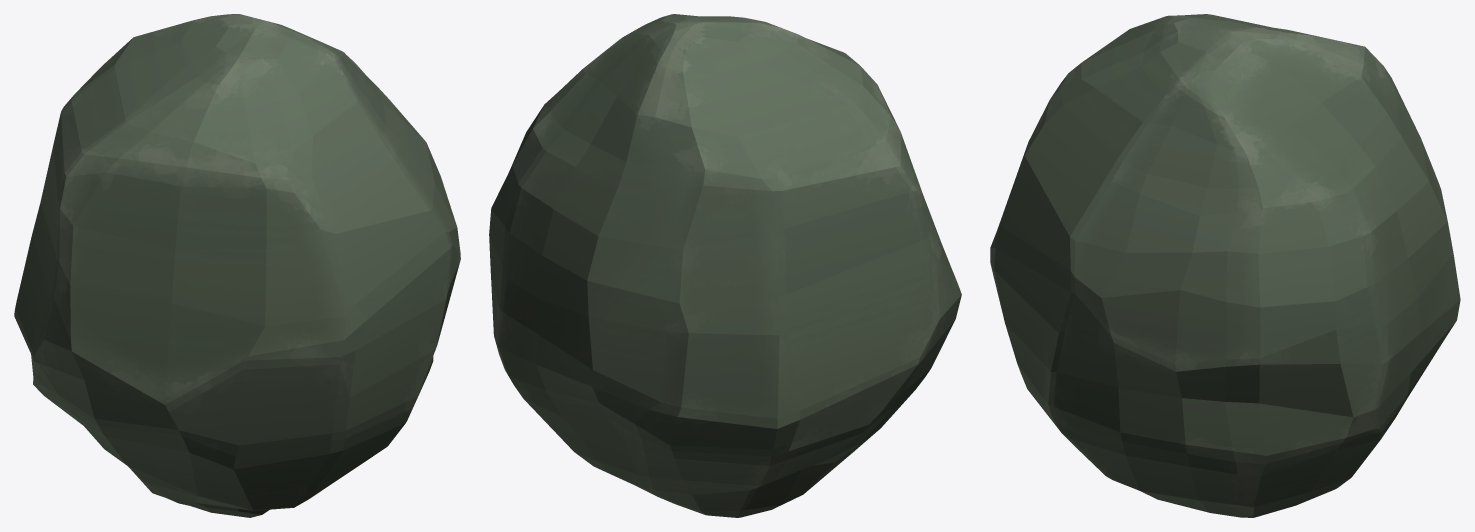
File: Roche_LOW_Poly_03.fbx
The picture shows the model from 3 angles, left to right: view 1: azimuth 30°, elevation 25°; view 2: azimuth 150°, elevation 25°; view 3: azimuth 270°, elevation 25°; orthographic projection. The views are drawn at different scales.
Visible parts, largest first — view 1: Roche_LOW_Poly_03; view 2: Roche_LOW_Poly_03; view 3: Roche_LOW_Poly_03.
Boxes of the visible parts, x1=… form: Roche_LOW_Poly_03: x1=14, y1=14, x2=460, y2=517; Roche_LOW_Poly_03: x1=489, y1=14, x2=961, y2=517; Roche_LOW_Poly_03: x1=990, y1=14, x2=1460, y2=517.
Bounding box in the file's own units: 293 × 322 × 284.
1 material, 1 textured.
